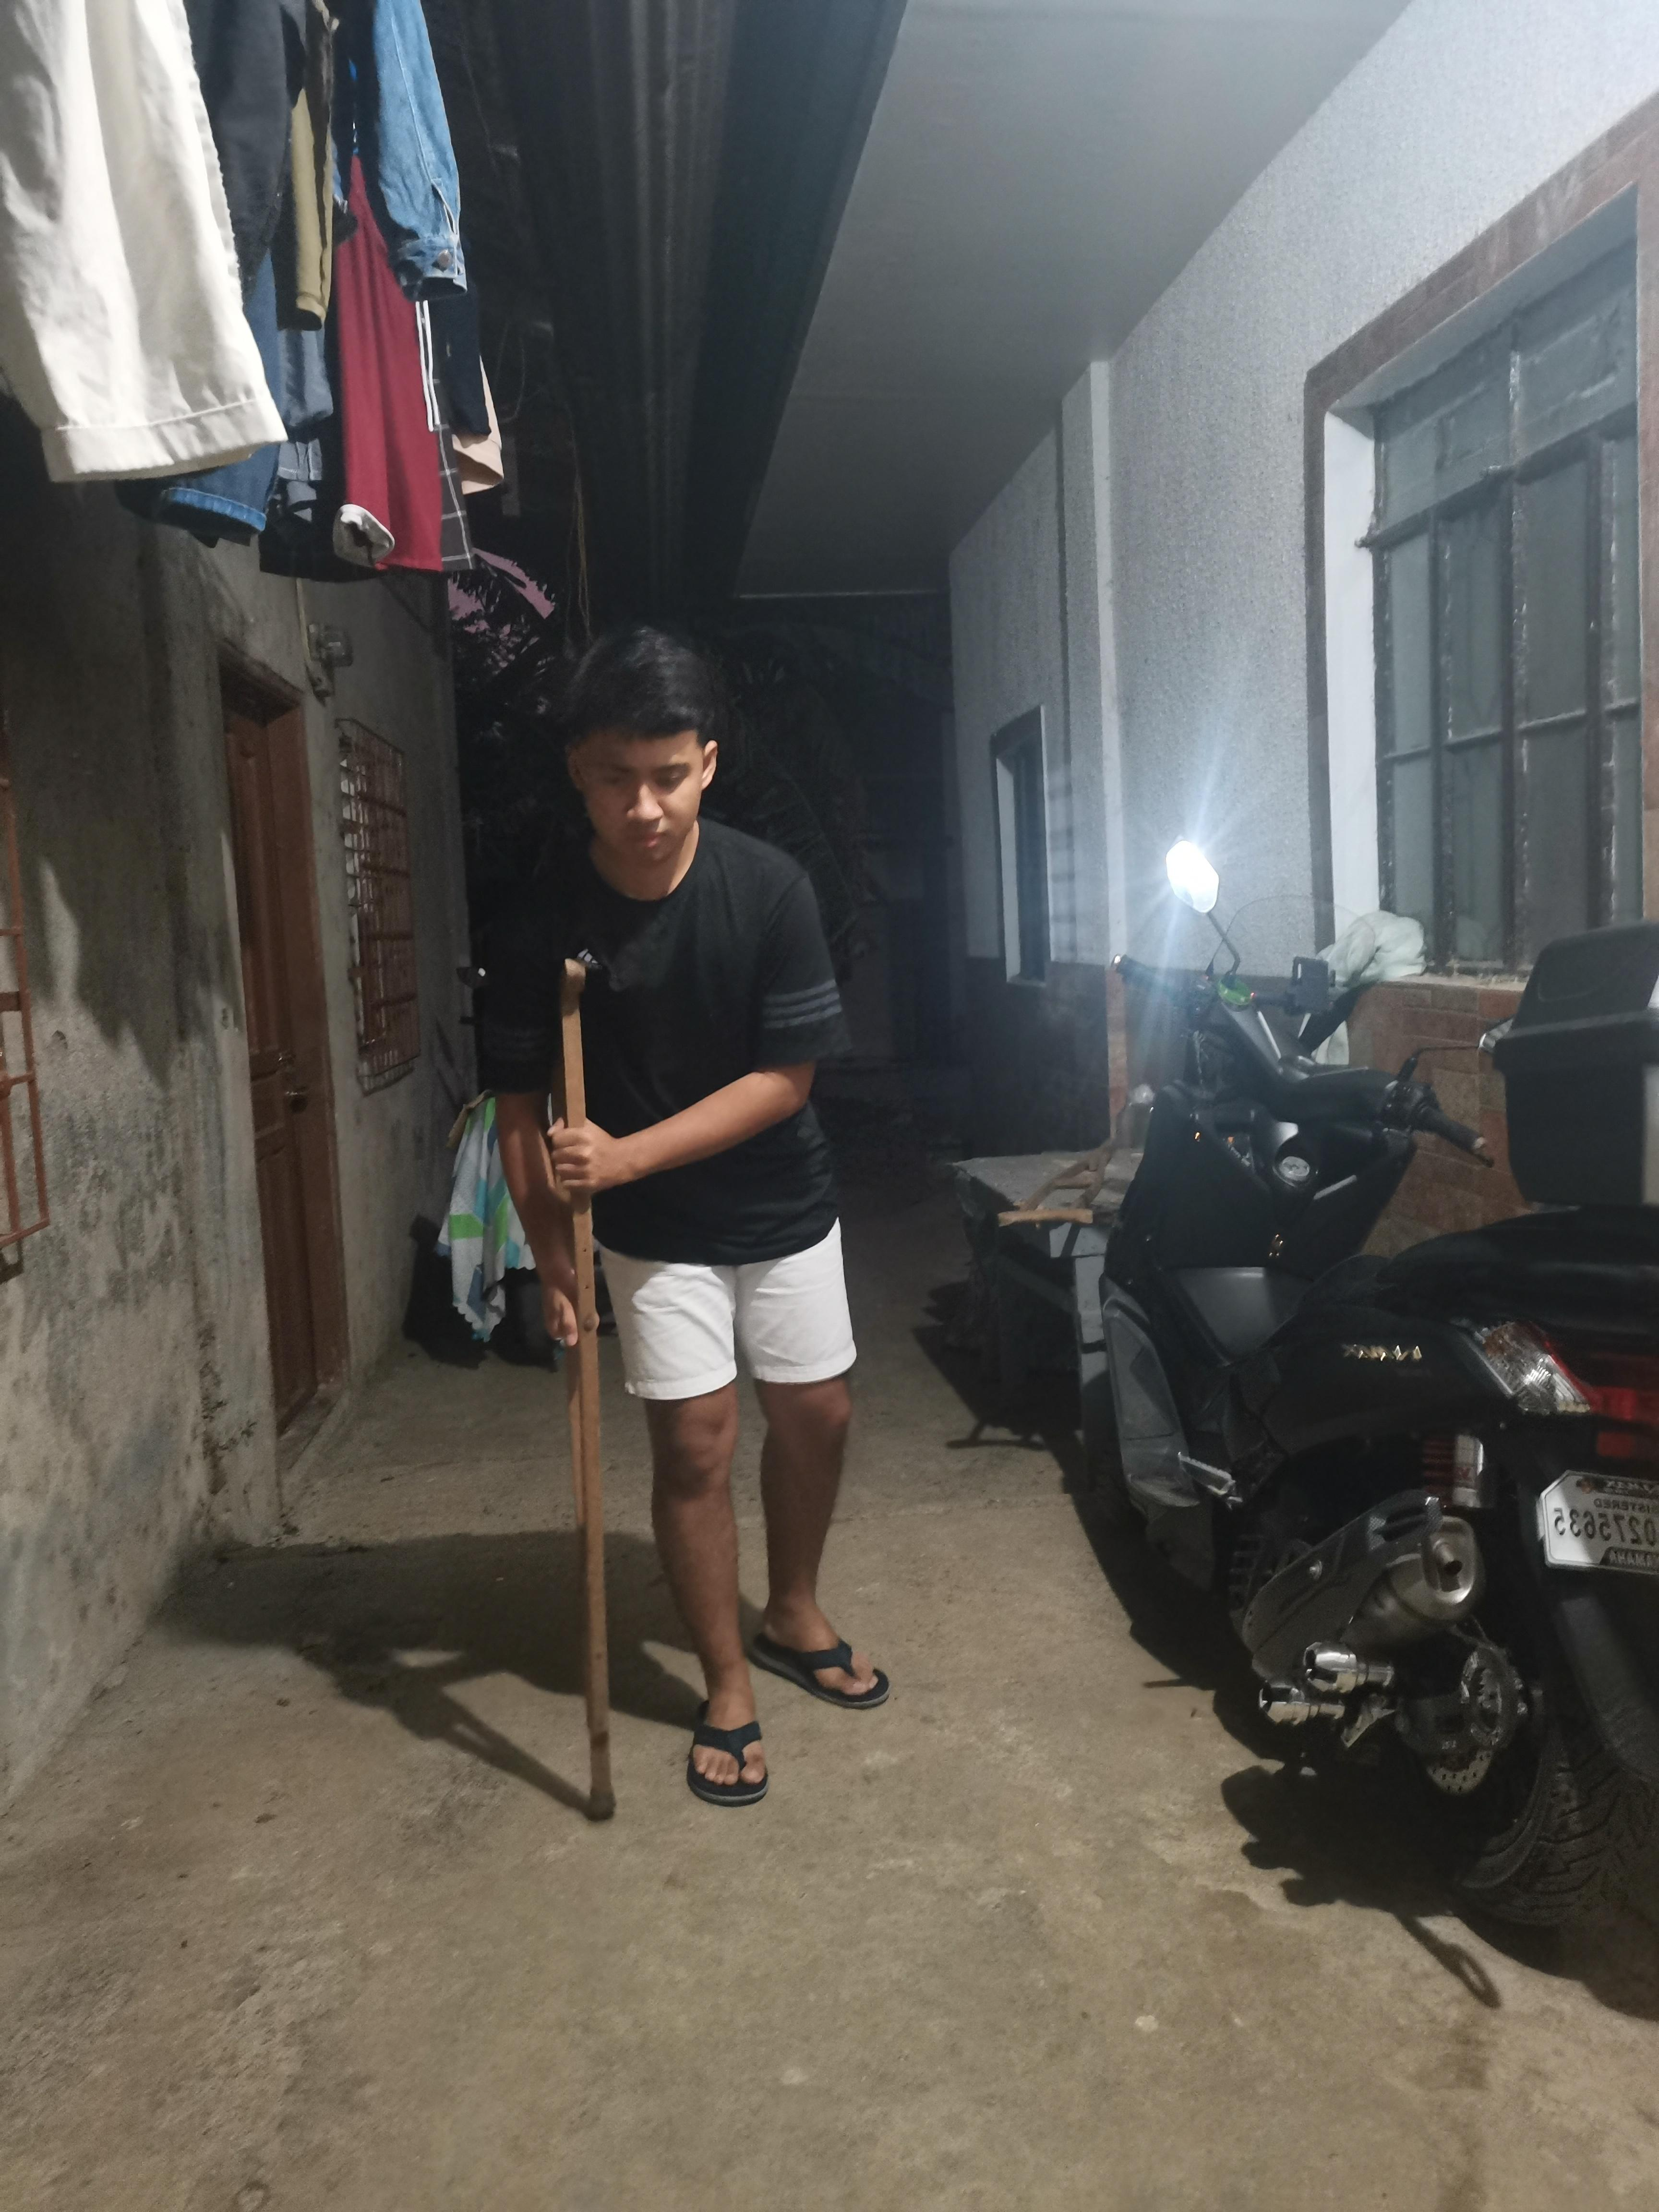crutches: (481, 631, 892, 1818)
